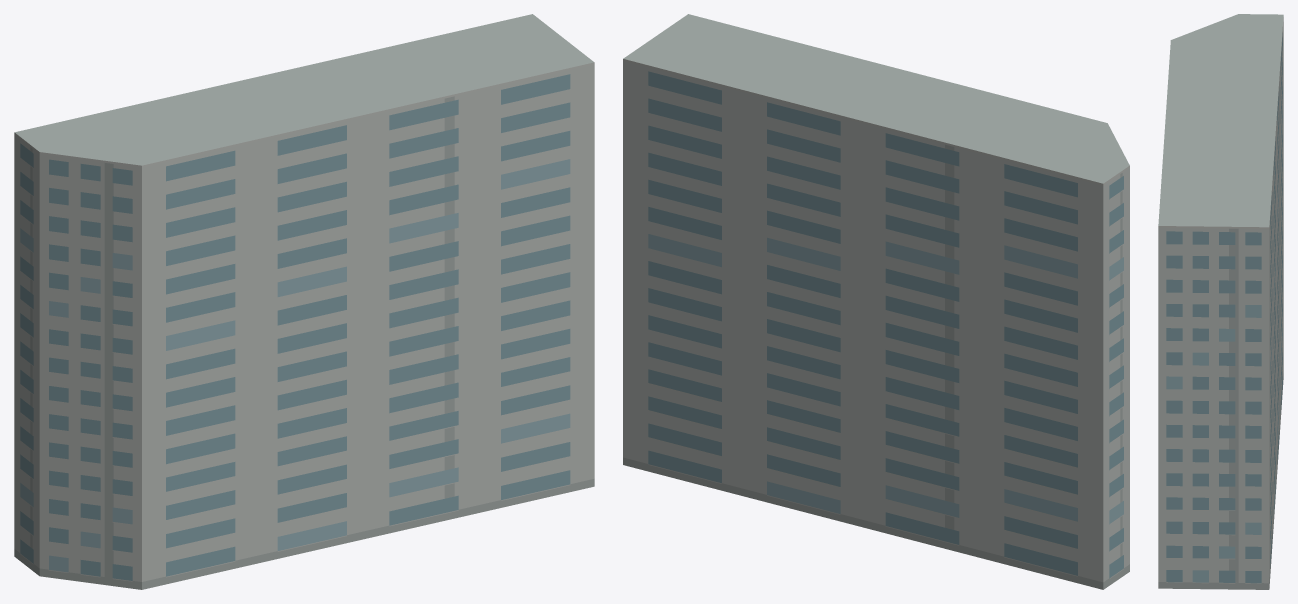
The model's file is residential-46e3fd1f-0dc1-4046-9216-c6e74da9aa6a.glb.
3 views of the same model, side by side, from view 1: azimuth 30°, elevation 25°; view 2: azimuth 150°, elevation 25°; view 3: azimuth 270°, elevation 25° (orthographic). The views are drawn at different scales.
Parts seen in each view (by area): view 1: residential-46e3fd1f-0dc1-4046-9216-c6e74da9aa6a.tmp; view 2: residential-46e3fd1f-0dc1-4046-9216-c6e74da9aa6a.tmp; view 3: residential-46e3fd1f-0dc1-4046-9216-c6e74da9aa6a.tmp.
Boxes of the visible parts, x1,y1,x2,y2 form: residential-46e3fd1f-0dc1-4046-9216-c6e74da9aa6a.tmp: (14,14,594,589); residential-46e3fd1f-0dc1-4046-9216-c6e74da9aa6a.tmp: (623,14,1129,589); residential-46e3fd1f-0dc1-4046-9216-c6e74da9aa6a.tmp: (1158,14,1283,589).
Bounding box in the file's own units: 61.8 × 49 × 15.35.
